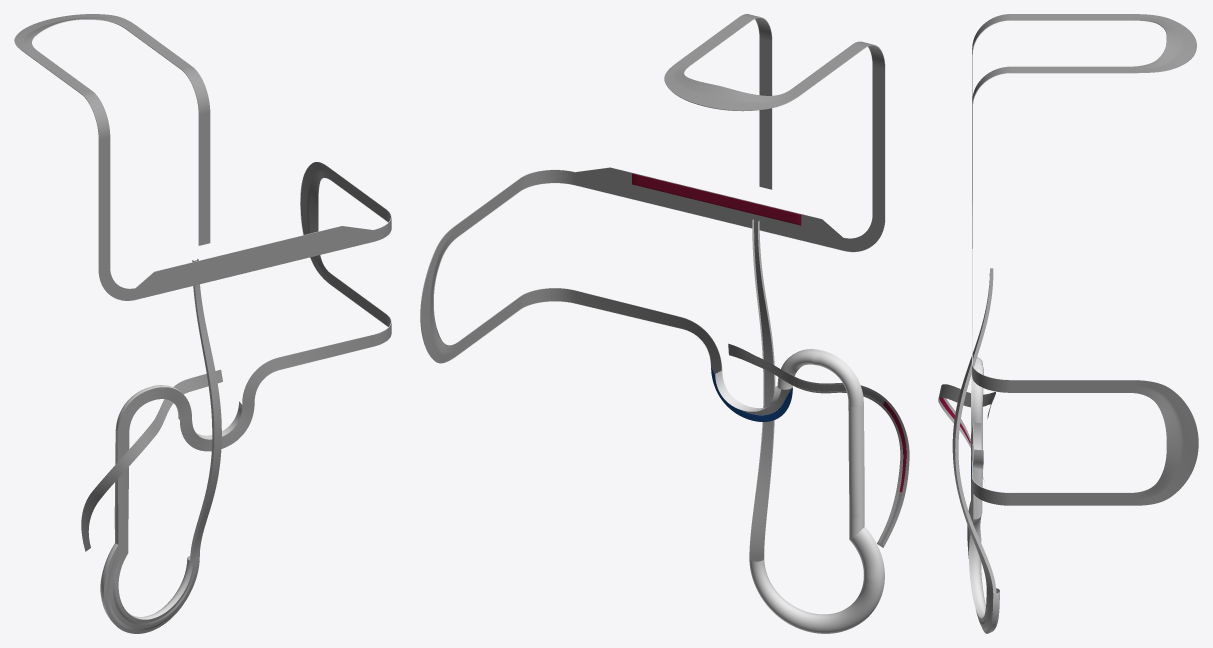
The model's file is track.obj.
The picture shows the model from 3 angles, left to right: view 1: azimuth 30°, elevation 25°; view 2: azimuth 150°, elevation 25°; view 3: azimuth 270°, elevation 25°; orthographic projection. The views are drawn at different scales.
Parts seen in each view (by area): view 1: MXTRoadSegment.049_PreviewMesh, MXTRoadSegment.117_PreviewMesh, MXTRoadSegment.123_PreviewMesh, MXTRoadSegment.118_PreviewMesh, MXTRoadSegment.073_PreviewMesh, MXTRoadSegment.031_PreviewMesh, MXTRoadSegment.103_PreviewMesh, MXTRoadSegment.099_PreviewMesh, MXTRoadSegment.091_PreviewMesh, MXTRoadSegment.013_PreviewMesh, MXTRoadSegment.107_PreviewMesh, MXTRoadSegment.000_PreviewMesh (+10 smaller); view 2: MXTRoadSegment.049_PreviewMesh, MXTRoadSegment.117_PreviewMesh, MXTRoadSegment.123_PreviewMesh, MXTRoadSegment.118_PreviewMesh, MXTRoadSegment.013_PreviewMesh, MXTRoadSegment.073_PreviewMesh, MXTRoadSegment.031_PreviewMesh, MXTRoadSegment.103_PreviewMesh, MXTRoadSegment.107_PreviewMesh, MXTRoadSegment.099_PreviewMesh, MXTRoadSegment.091_PreviewMesh, MXTRoadSegment.001_PreviewMesh (+10 smaller); view 3: MXTRoadSegment.073_PreviewMesh, MXTRoadSegment.123_PreviewMesh, MXTRoadSegment.013_PreviewMesh, MXTRoadSegment.117_PreviewMesh, MXTRoadSegment.079_PreviewMesh, MXTRoadSegment.067_PreviewMesh, MXTRoadSegment.118_PreviewMesh, MXTRoadSegment.008_PreviewMesh, MXTRoadSegment.019_PreviewMesh, MXTRoadSegment.103_PreviewMesh, MXTRoadSegment.085_PreviewMesh, MXTRoadSegment.061_PreviewMesh (+1 smaller).
Part boxes in pixels (left/top/right/bottom): MXTRoadSegment.049_PreviewMesh: left=154, top=226, right=342, bottom=294; MXTRoadSegment.117_PreviewMesh: left=100, top=543, right=199, bottom=633; MXTRoadSegment.123_PreviewMesh: left=190, top=259, right=221, bottom=561; MXTRoadSegment.118_PreviewMesh: left=81, top=369, right=222, bottom=551; MXTRoadSegment.073_PreviewMesh: left=300, top=162, right=332, bottom=286; MXTRoadSegment.031_PreviewMesh: left=98, top=137, right=110, bottom=270; MXTRoadSegment.103_PreviewMesh: left=115, top=385, right=191, bottom=435; MXTRoadSegment.099_PreviewMesh: left=180, top=401, right=254, bottom=451; MXTRoadSegment.091_PreviewMesh: left=279, top=335, right=373, bottom=369; MXTRoadSegment.013_PreviewMesh: left=14, top=14, right=137, bottom=53; MXTRoadSegment.107_PreviewMesh: left=114, top=433, right=129, bottom=534; MXTRoadSegment.000_PreviewMesh: left=198, top=112, right=210, bottom=180; MXTRoadSegment.049_PreviewMesh: left=610, top=167, right=822, bottom=245; MXTRoadSegment.117_PreviewMesh: left=749, top=527, right=884, bottom=633; MXTRoadSegment.123_PreviewMesh: left=749, top=219, right=775, bottom=556; MXTRoadSegment.118_PreviewMesh: left=728, top=343, right=909, bottom=547; MXTRoadSegment.013_PreviewMesh: left=664, top=61, right=803, bottom=111; MXTRoadSegment.073_PreviewMesh: left=420, top=223, right=458, bottom=363; MXTRoadSegment.031_PreviewMesh: left=872, top=66, right=885, bottom=217; MXTRoadSegment.103_PreviewMesh: left=777, top=349, right=863, bottom=406; MXTRoadSegment.107_PreviewMesh: left=848, top=404, right=864, bottom=518; MXTRoadSegment.099_PreviewMesh: left=711, top=366, right=792, bottom=421; MXTRoadSegment.091_PreviewMesh: left=575, top=290, right=681, bottom=328; MXTRoadSegment.001_PreviewMesh: left=759, top=113, right=772, bottom=189; MXTRoadSegment.073_PreviewMesh: left=1127, top=380, right=1198, bottom=505; MXTRoadSegment.123_PreviewMesh: left=952, top=268, right=996, bottom=593; MXTRoadSegment.013_PreviewMesh: left=1128, top=14, right=1196, bottom=73; MXTRoadSegment.117_PreviewMesh: left=967, top=501, right=999, bottom=633; MXTRoadSegment.079_PreviewMesh: left=1011, top=492, right=1127, bottom=505; MXTRoadSegment.067_PreviewMesh: left=1011, top=380, right=1127, bottom=392; MXTRoadSegment.118_PreviewMesh: left=938, top=384, right=995, bottom=479; MXTRoadSegment.008_PreviewMesh: left=1011, top=66, right=1127, bottom=73; MXTRoadSegment.019_PreviewMesh: left=1011, top=14, right=1127, bottom=20; MXTRoadSegment.103_PreviewMesh: left=971, top=357, right=983, bottom=422; MXTRoadSegment.085_PreviewMesh: left=972, top=476, right=1010, bottom=505; MXTRoadSegment.061_PreviewMesh: left=972, top=363, right=1010, bottom=392.
Bounding box in the file's own units: 2619 × 4179 × 1673.
